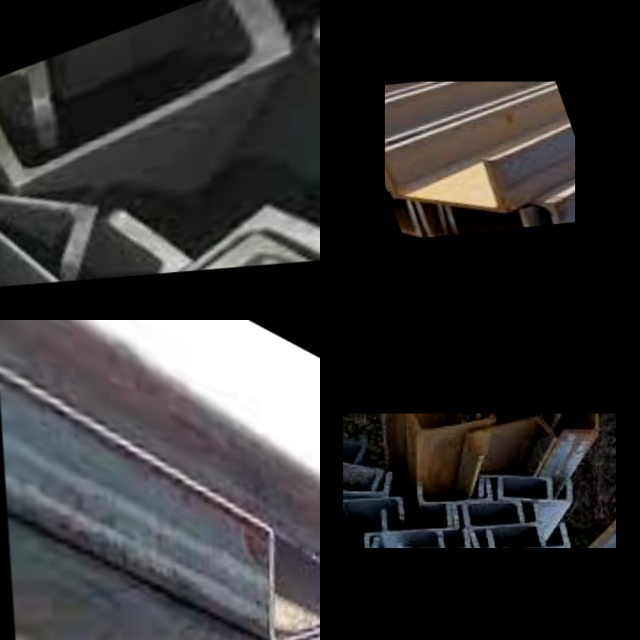Shveller: (0, 0, 277, 185), (75, 202, 320, 280), (0, 209, 181, 288), (0, 142, 99, 283), (0, 178, 86, 290), (385, 143, 505, 221), (268, 497, 320, 640), (197, 218, 320, 270), (0, 61, 51, 161), (417, 192, 528, 237), (447, 199, 557, 234), (385, 179, 447, 234), (471, 417, 555, 457), (385, 171, 421, 237), (488, 526, 568, 548), (466, 526, 543, 548), (420, 480, 491, 502), (500, 479, 571, 501), (455, 502, 521, 525), (383, 505, 450, 527), (255, 618, 320, 640), (464, 505, 537, 524), (343, 498, 402, 520), (482, 476, 550, 495), (365, 533, 443, 548), (343, 459, 382, 489), (274, 615, 320, 640), (343, 470, 390, 494), (395, 535, 480, 548), (398, 217, 448, 238)
